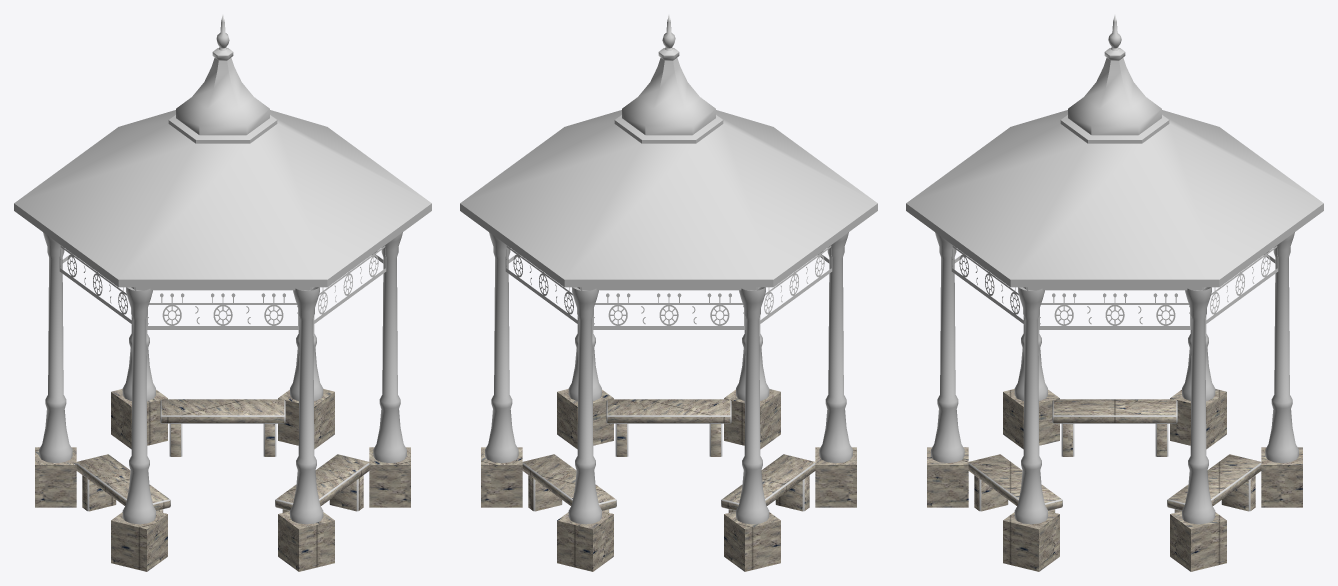
The model's file is SM_Morin_Gazebo.fbx.
The picture shows the model from 3 angles, left to right: view 1: azimuth 30°, elevation 25°; view 2: azimuth 150°, elevation 25°; view 3: azimuth 270°, elevation 25°; orthographic projection.
Visible parts, largest first — view 1: SM_Morin_Gazebo; view 2: SM_Morin_Gazebo; view 3: SM_Morin_Gazebo.
Part boxes in pixels (bbox=[...]): SM_Morin_Gazebo: bbox=[14, 15, 431, 571]; SM_Morin_Gazebo: bbox=[460, 15, 877, 571]; SM_Morin_Gazebo: bbox=[906, 15, 1323, 571].
Size of what is drawn, in the model's own units: 346 by 400 by 512.
3 materials, 1 textured.
